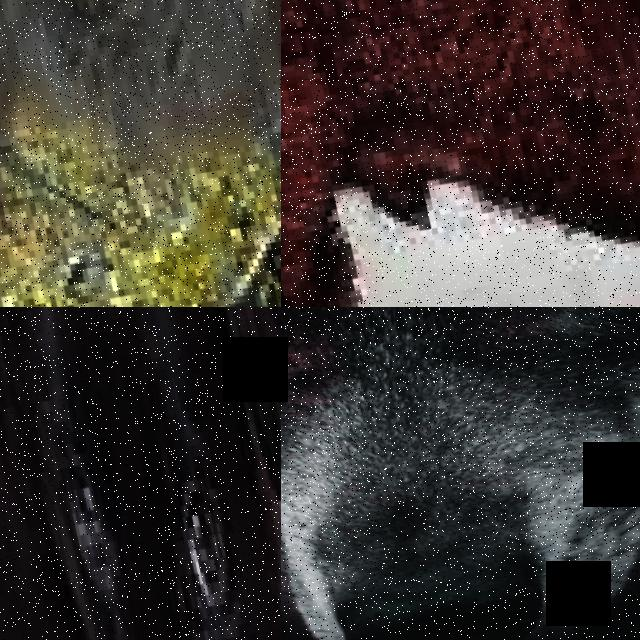dog: (281, 0, 640, 307), (0, 307, 281, 640)
wolf: (281, 307, 640, 640), (0, 0, 281, 307)
